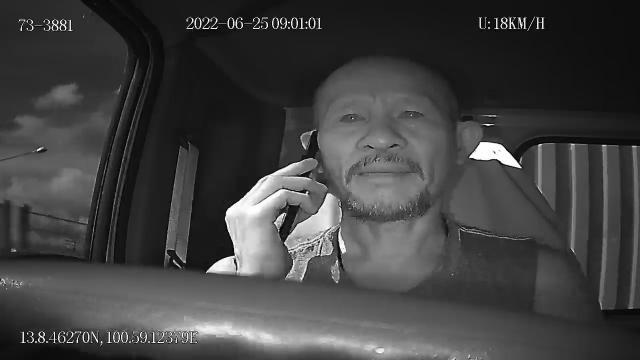PhoneUse: (278, 128, 320, 242)
SafeDriving: (330, 100, 372, 132), (390, 98, 432, 128)
